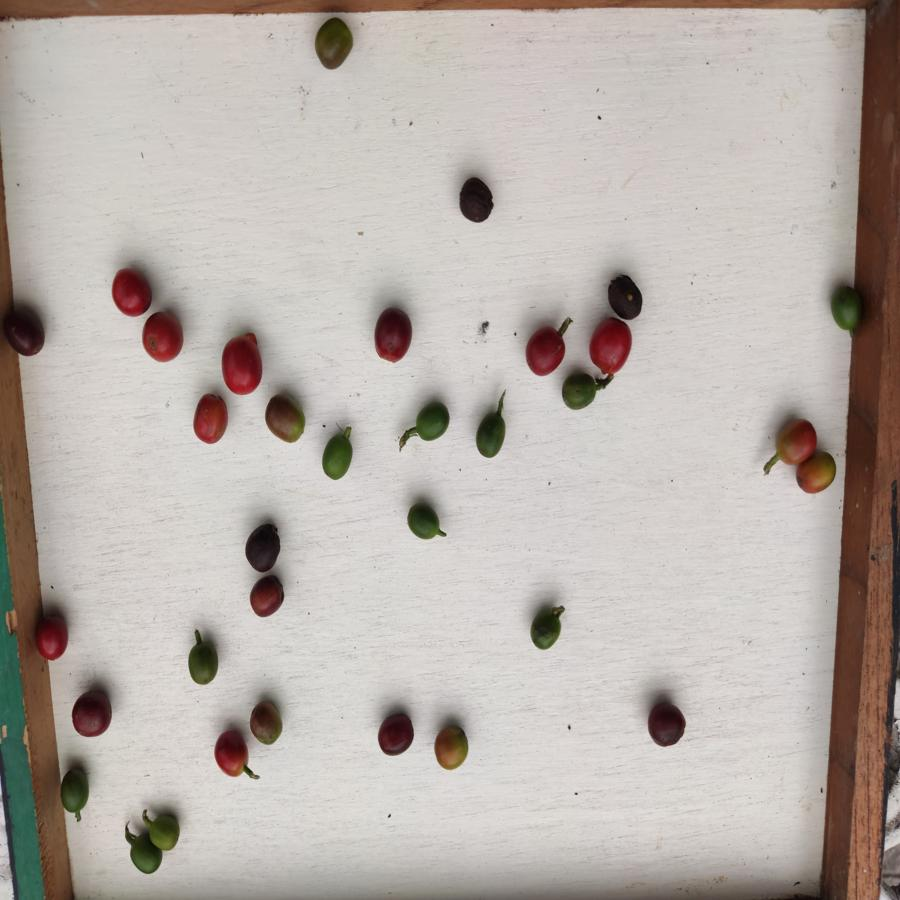Inmaduro: (184, 638, 228, 688), (825, 279, 864, 335), (408, 498, 448, 549), (525, 603, 563, 653), (561, 369, 603, 413), (321, 433, 358, 481), (60, 765, 93, 818), (145, 807, 183, 853), (413, 400, 452, 444), (473, 411, 508, 460), (123, 833, 163, 874)
Maduro: (217, 333, 263, 396), (110, 267, 156, 319), (523, 323, 566, 378), (590, 318, 633, 373), (143, 311, 186, 364), (779, 413, 819, 467), (210, 730, 249, 779), (191, 392, 228, 442), (37, 610, 71, 664)
Pinton: (312, 15, 355, 69), (243, 697, 292, 744), (263, 395, 307, 445), (433, 722, 474, 775), (796, 452, 838, 496)
Sobremaduro: (1, 300, 52, 363), (454, 175, 500, 228), (372, 305, 413, 362), (603, 270, 648, 319), (646, 700, 688, 751), (72, 686, 113, 738), (376, 708, 416, 758), (243, 523, 283, 573), (248, 575, 290, 618)
